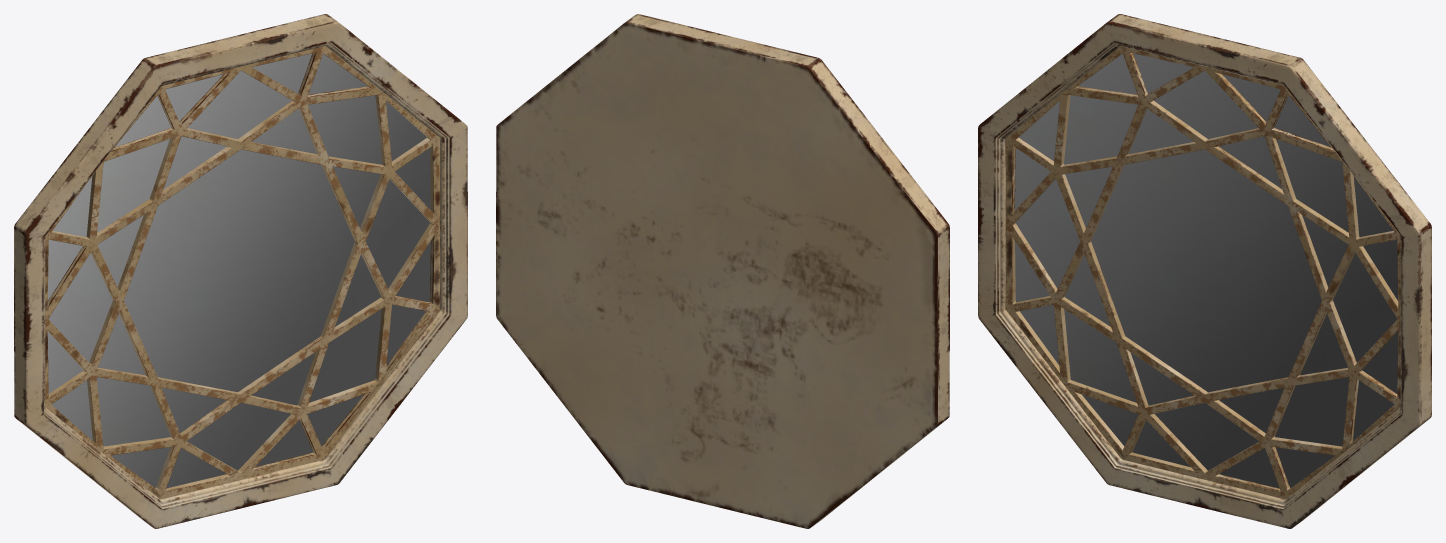
The model's file is mirror_B073WGQBPZ.glb.
The picture shows the model from 3 angles, left to right: view 1: azimuth 30°, elevation 25°; view 2: azimuth 150°, elevation 25°; view 3: azimuth 330°, elevation 25°; orthographic projection.
Parts seen in each view (by area): view 1: RootNode; view 2: RootNode; view 3: RootNode.
Boxes of the visible parts, x1,y1,x2,y2 form: RootNode: (14, 14, 467, 528); RootNode: (496, 14, 949, 528); RootNode: (978, 14, 1431, 528).
Size of the model in its own units: 0.6476 by 0.6476 by 0.0311.
1 material, 1 textured.
